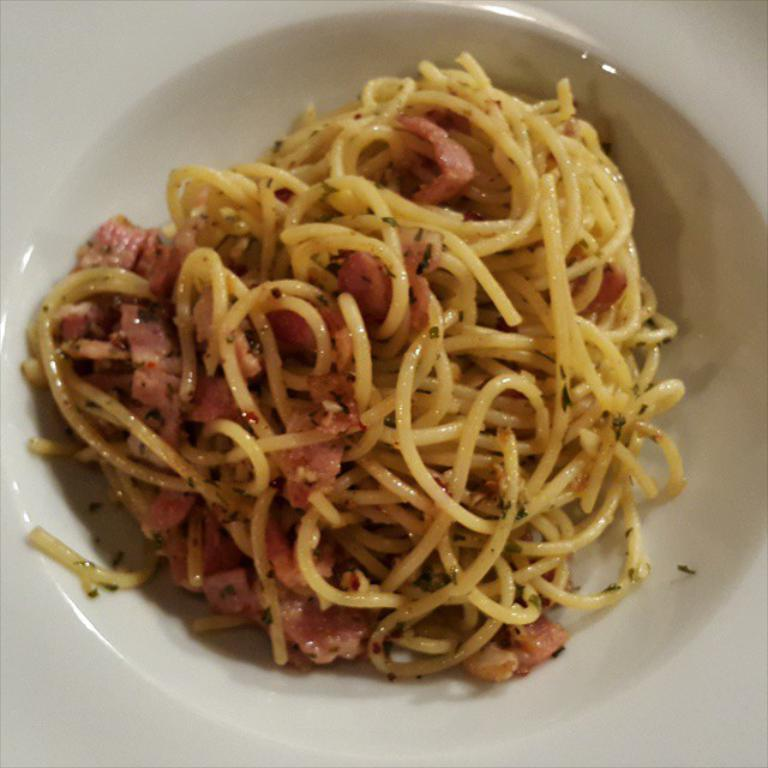pasta: (25, 56, 691, 708)
